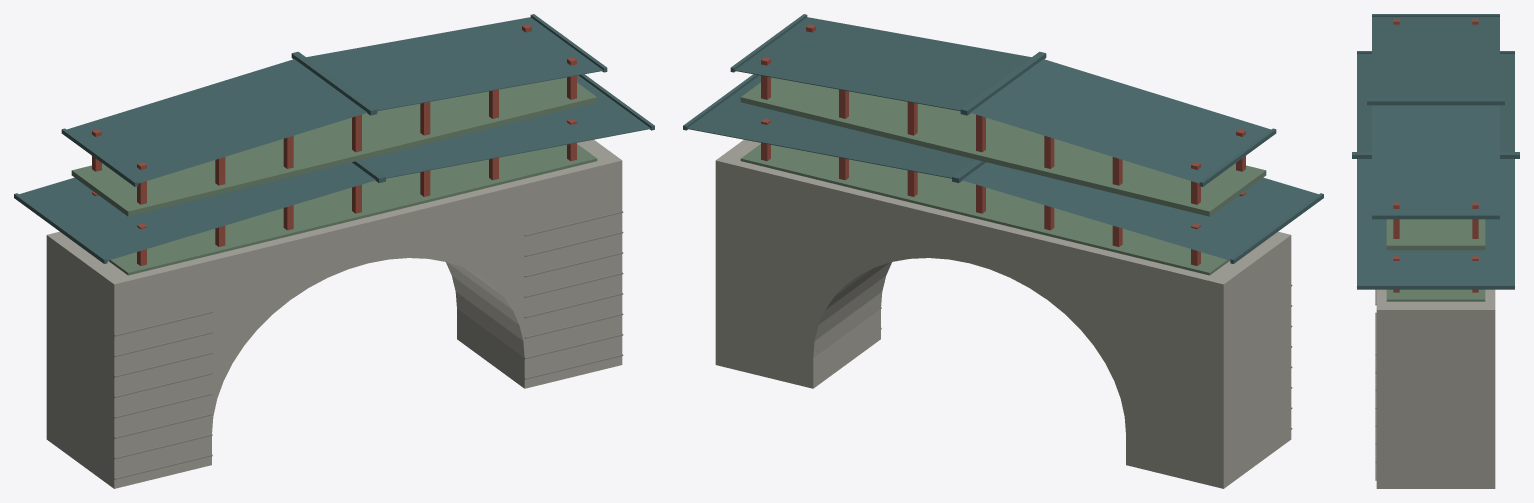
3 renders of one model, left to right at view 1: azimuth 30°, elevation 25°; view 2: azimuth 150°, elevation 25°; view 3: azimuth 270°, elevation 25°, orthographic. The views are drawn at different scales.
Parts seen in each view (by area): view 1: Visual; view 2: Visual; view 3: Visual.
Boxes of the visible parts, x1,y1,x2,y2 form: Visual: (14,14,654,488); Visual: (683,14,1323,488); Visual: (1352,14,1519,488).
Bounding box in the file's own units: 56.35 × 31.38 × 17.
